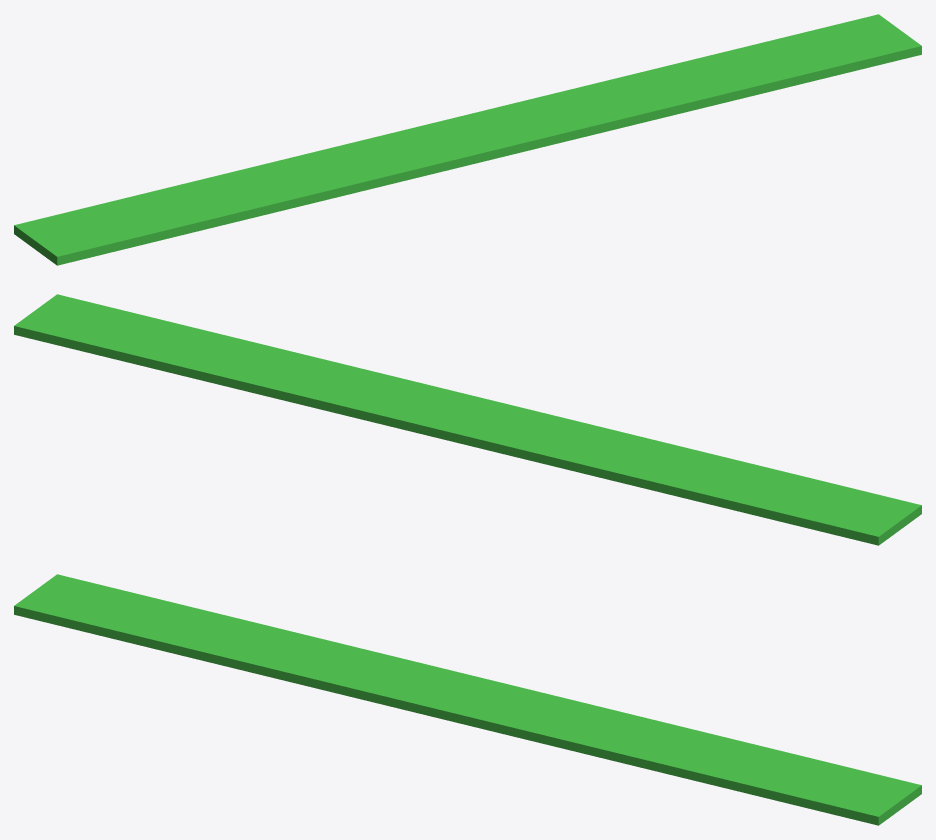
Rendered from Ground.obj.
3 renders of one model, top to bottom at view 1: azimuth 30°, elevation 25°; view 2: azimuth 150°, elevation 25°; view 3: azimuth 330°, elevation 25°, orthographic.
Visible parts, largest first — view 1: Cube; view 2: Cube; view 3: Cube.
Boxes of the visible parts, bbox=[...] form: Cube: bbox=[14, 14, 921, 265]; Cube: bbox=[14, 294, 921, 545]; Cube: bbox=[14, 574, 921, 825].
Size of the model in its own units: 1524 by 14.81 by 132.
